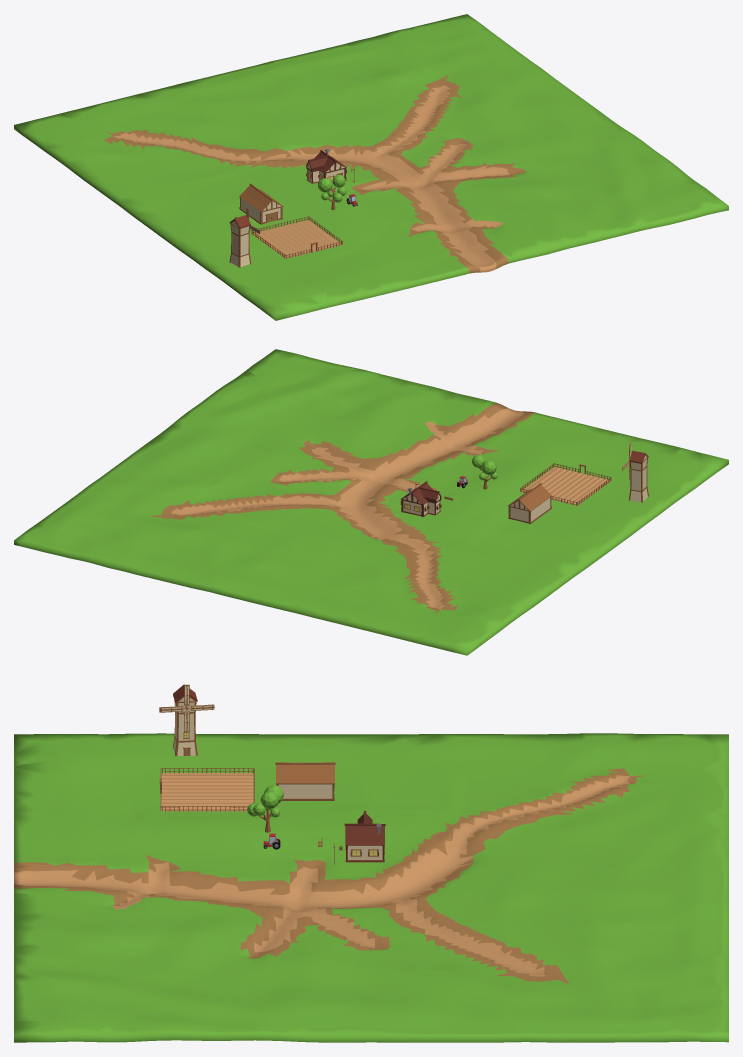
File: VillageUnity.glb
3 renders of one model, top to bottom at view 1: azimuth 30°, elevation 25°; view 2: azimuth 150°, elevation 25°; view 3: azimuth 270°, elevation 25°, orthographic. The views are drawn at different scales.
Parts seen in each view (by area): view 1: Map, Empty_Field, Barn_01, Windmill, House_04, Tree_01; view 2: Map, Empty_Field, Barn_01, House_04, Windmill; view 3: Map, Empty_Field, Barn_01, Windmill, House_04, Tree_01.
Part boxes in pixels (<box>): Map: <box>14,14,728,320</box>; Empty_Field: <box>251,216,343,258</box>; Barn_01: <box>239,183,283,224</box>; Windmill: <box>229,207,260,267</box>; House_04: <box>306,148,346,183</box>; Tree_01: <box>318,174,346,209</box>; Map: <box>14,349,728,655</box>; Empty_Field: <box>520,463,611,505</box>; Barn_01: <box>508,483,551,523</box>; House_04: <box>400,481,441,516</box>; Windmill: <box>622,443,648,502</box>; Map: <box>14,733,728,1042</box>; Empty_Field: <box>159,768,254,811</box>; Barn_01: <box>275,762,335,800</box>; Windmill: <box>159,684,214,756</box>; House_04: <box>344,810,385,862</box>; Tree_01: <box>247,784,283,832</box>.
Size of the model in its own units: 126 by 16.17 by 126.
Materials: 1 (1 with a texture image).
